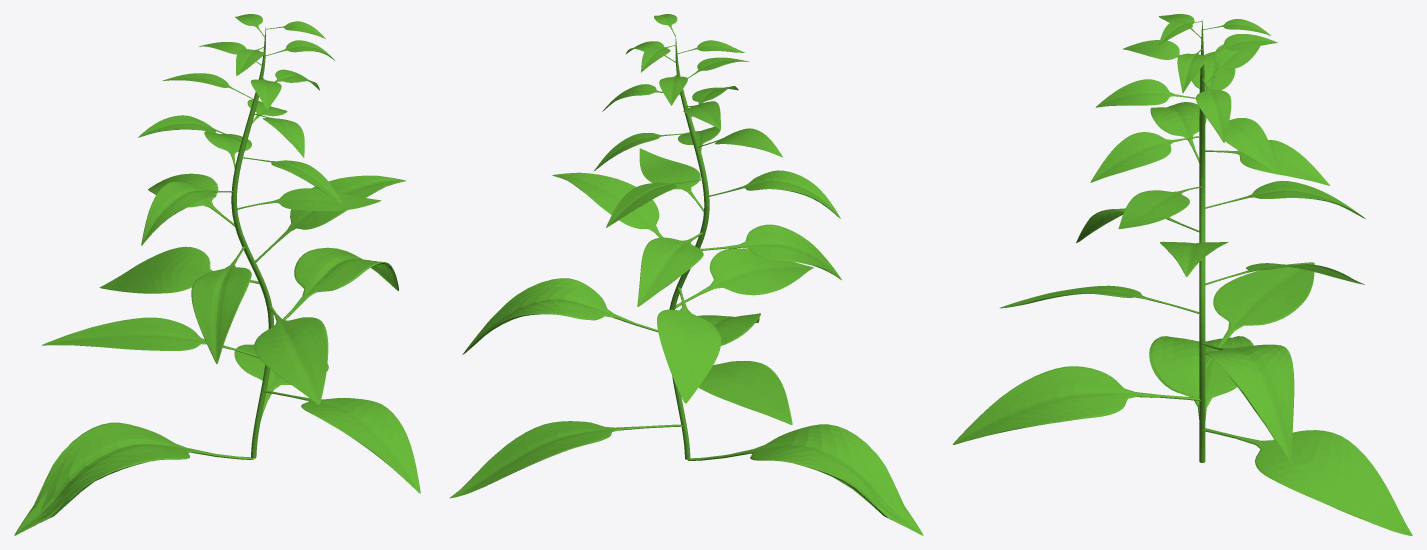
File: Plant.fbx
3 views of the same model, side by side, from view 1: azimuth 30°, elevation 25°; view 2: azimuth 150°, elevation 25°; view 3: azimuth 270°, elevation 25° (orthographic). The views are drawn at different scales.
Visible parts, largest first — view 1: Leaf, Stem; view 2: Leaf, Stem; view 3: Leaf, Stem.
Boxes of the visible parts, left/top/right/bottom form: Leaf: left=14, top=14, right=420, bottom=535; Stem: left=231, top=27, right=274, bottom=458; Leaf: left=450, top=14, right=923, bottom=535; Stem: left=669, top=36, right=709, bottom=459; Leaf: left=952, top=14, right=1412, bottom=535; Stem: left=1199, top=20, right=1205, bottom=462.
Bounding box in the file's own units: 937 × 948 × 834.
